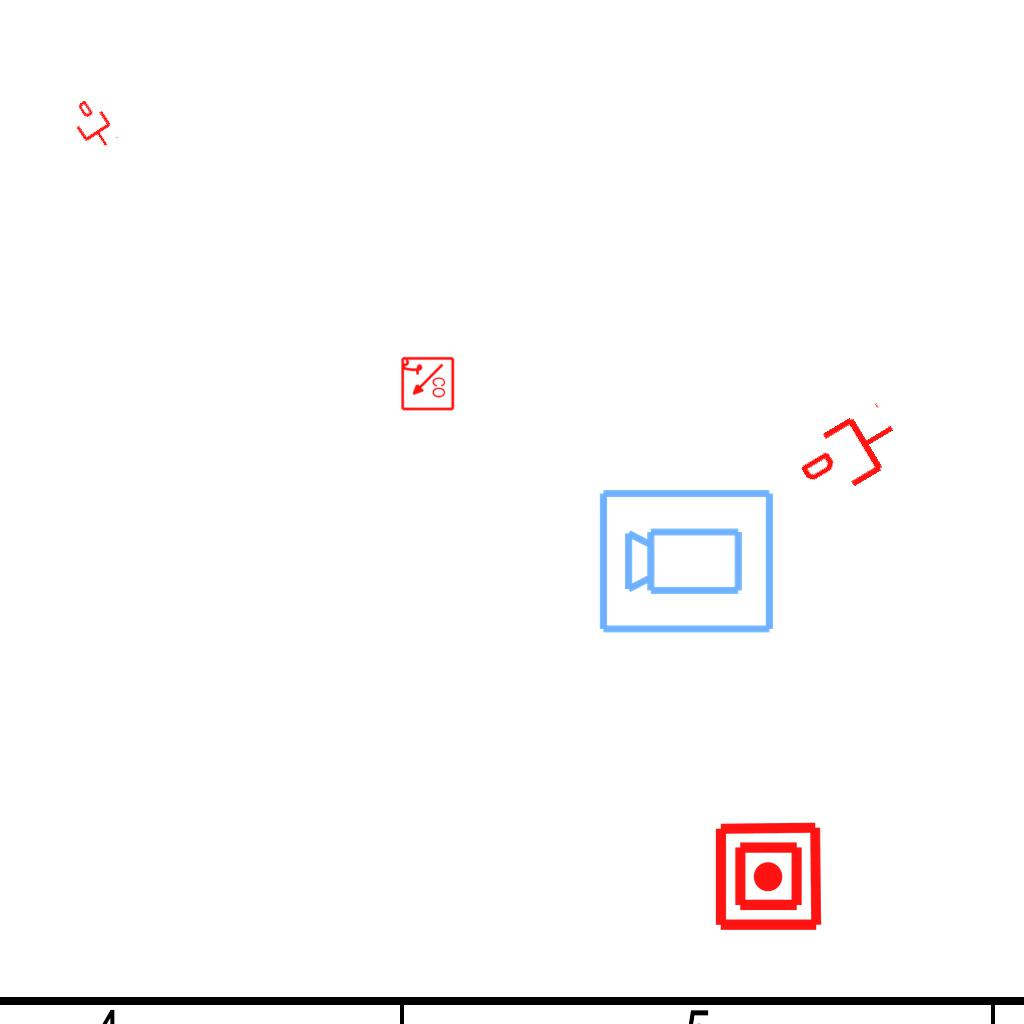Datenanschluss_einfach: (789, 397, 912, 509), (65, 94, 121, 156)
KFO_Kamera_mit_Festobjektiv: (596, 483, 778, 637)
NAM-Nichtautomatischer_Melder: (712, 820, 825, 933)
ROA_Rauchmelder_optisch_mit_Signalgeber_(Sockelsirene): (399, 356, 455, 412)
